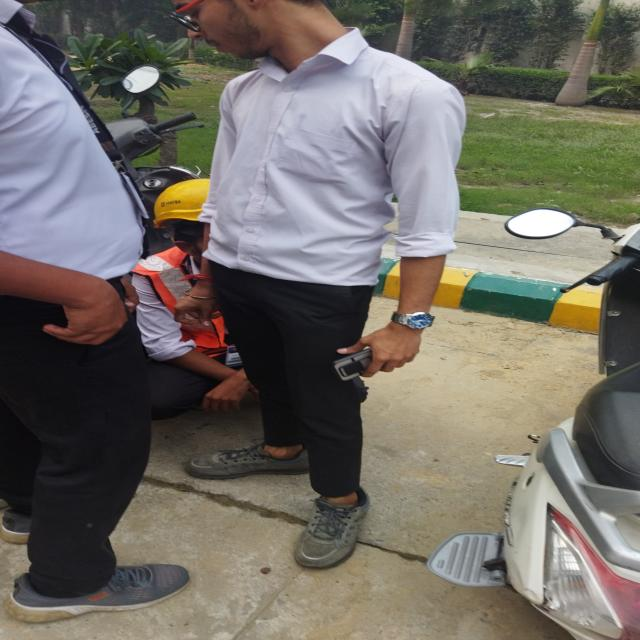unsafe: (160, 0, 460, 565)
